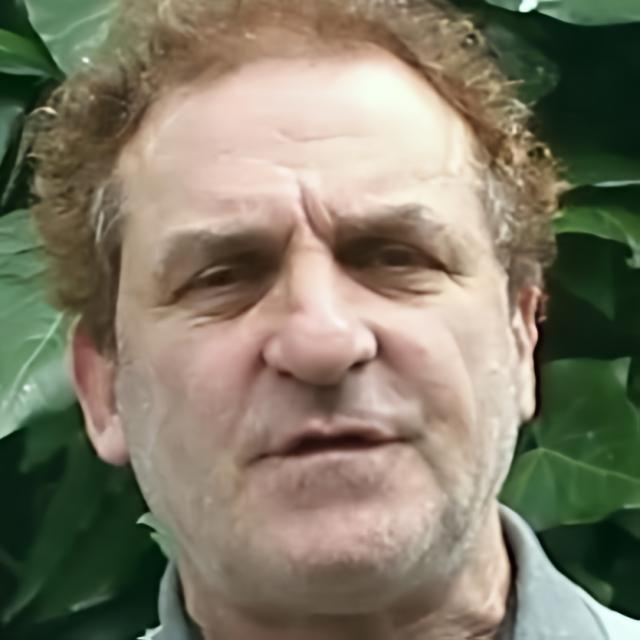anger: (113, 62, 514, 606)
